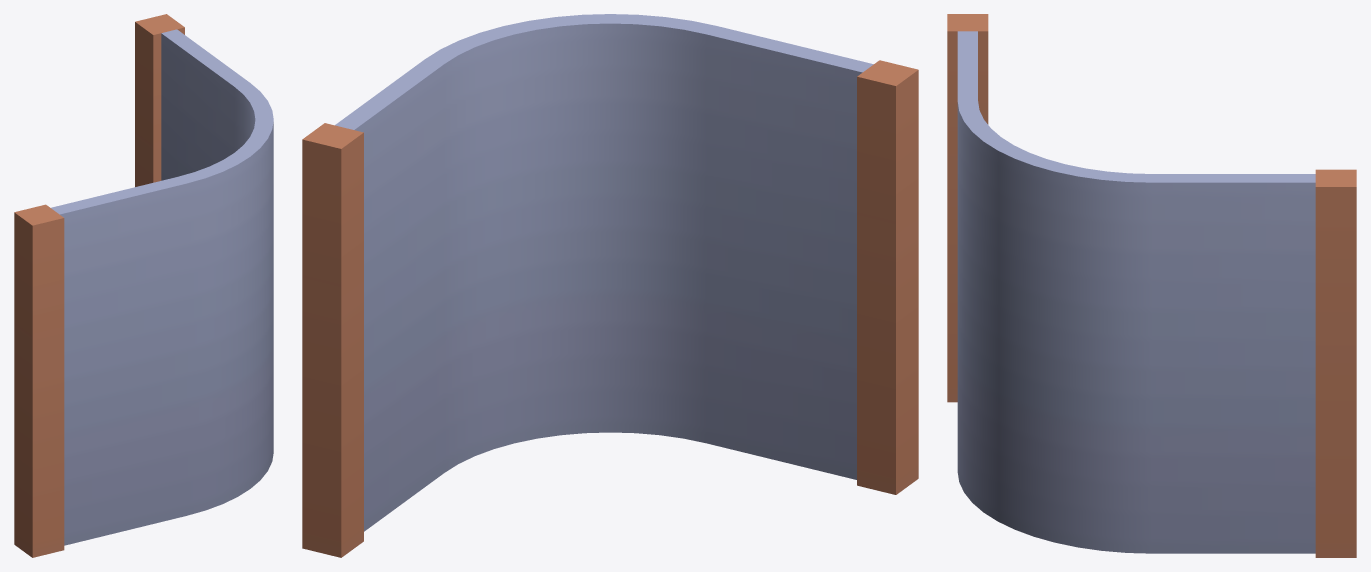
File: wall-rounded.glb
3 renders of one model, left to right at view 1: azimuth 30°, elevation 25°; view 2: azimuth 150°, elevation 25°; view 3: azimuth 270°, elevation 25°, orthographic. The views are drawn at different scales.
Parts seen in each view (by area): view 1: wall-rounded; view 2: wall-rounded; view 3: wall-rounded.
Boxes of the visible parts, x1,y1,x2,y2 form: wall-rounded: (14, 14, 273, 557); wall-rounded: (302, 14, 918, 557); wall-rounded: (947, 14, 1356, 557).
Bounding box in the file's own units: 1 × 1 × 1.
Materials: 1 (1 with a texture image).
